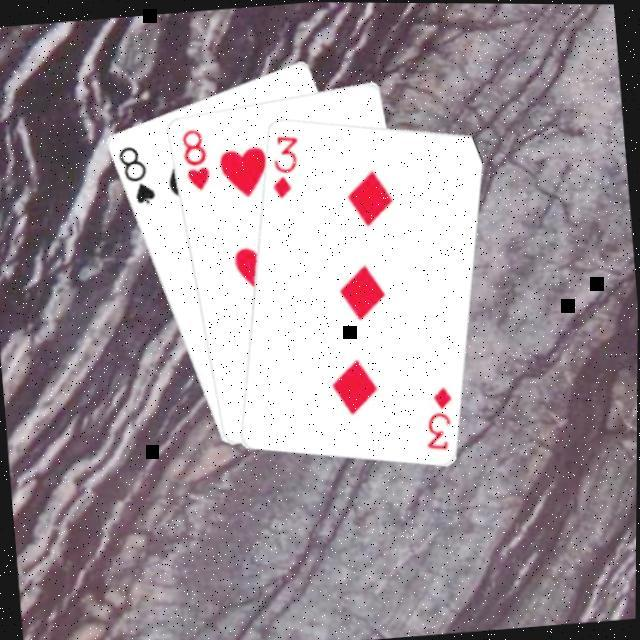3D: (264, 127, 306, 200), (418, 380, 460, 452)
8H: (177, 122, 215, 193)
8S: (114, 139, 160, 208)
